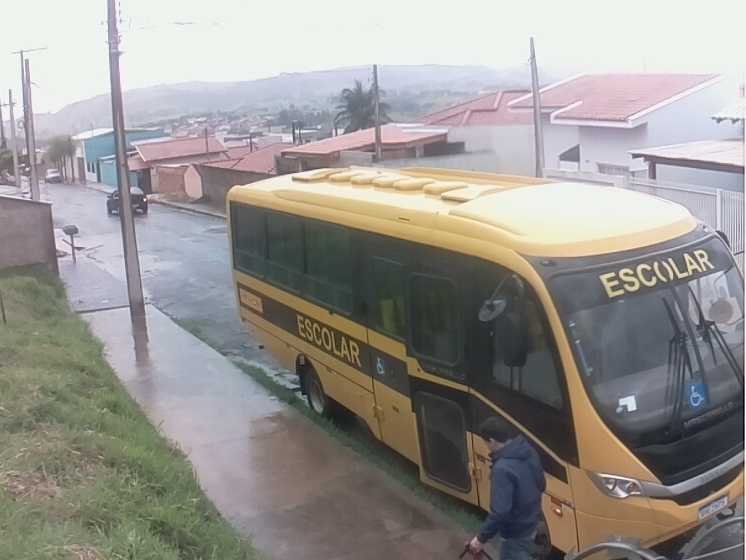person: (468, 415, 549, 560)
